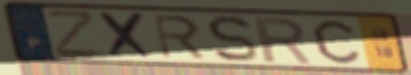C: (310, 18, 363, 65)
R: (251, 15, 315, 65), (150, 13, 209, 60)
S: (204, 13, 261, 64)
X: (95, 10, 157, 61)
Z: (44, 9, 105, 59)
